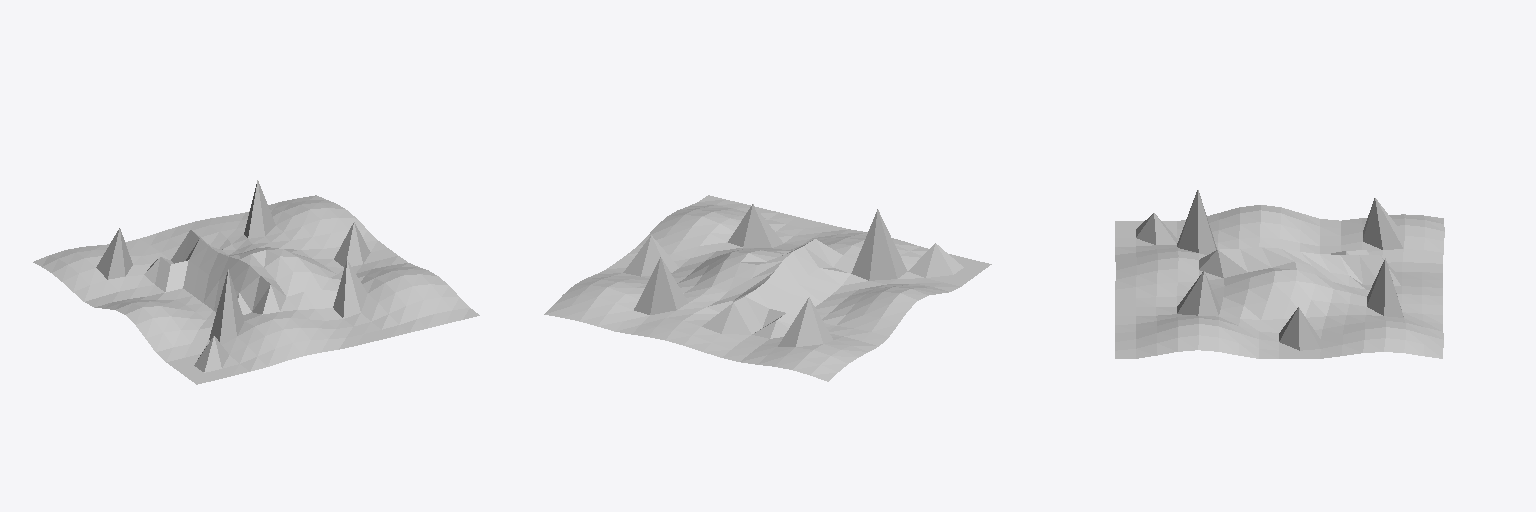
The model's file is lanscape.obj.
3 views of the same model, side by side, from view 1: azimuth 30°, elevation 25°; view 2: azimuth 150°, elevation 25°; view 3: azimuth 270°, elevation 25° (orthographic).
Visible parts, largest first — view 1: Plane; view 2: Plane; view 3: Plane.
Part boxes in pixels (x1,y1,x2,y2): Plane: (33,180,479,384); Plane: (544,195,991,381); Plane: (1115,190,1444,358).
Bounding box in the file's own units: 4.03 × 0.9207 × 4.04.